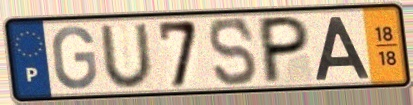7: (156, 19, 199, 90)
A: (313, 14, 373, 82)
G: (50, 24, 99, 92)
P: (259, 13, 312, 87)
S: (206, 15, 261, 89)
U: (97, 21, 157, 90)
